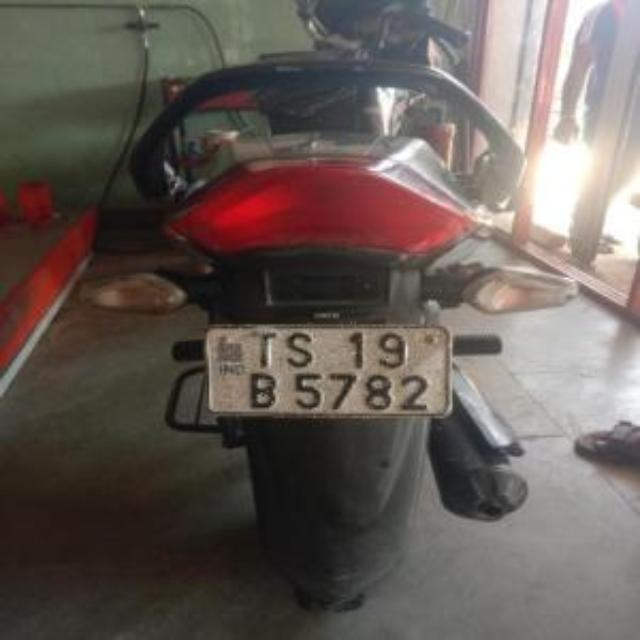License Plate: (211, 323, 445, 418)
